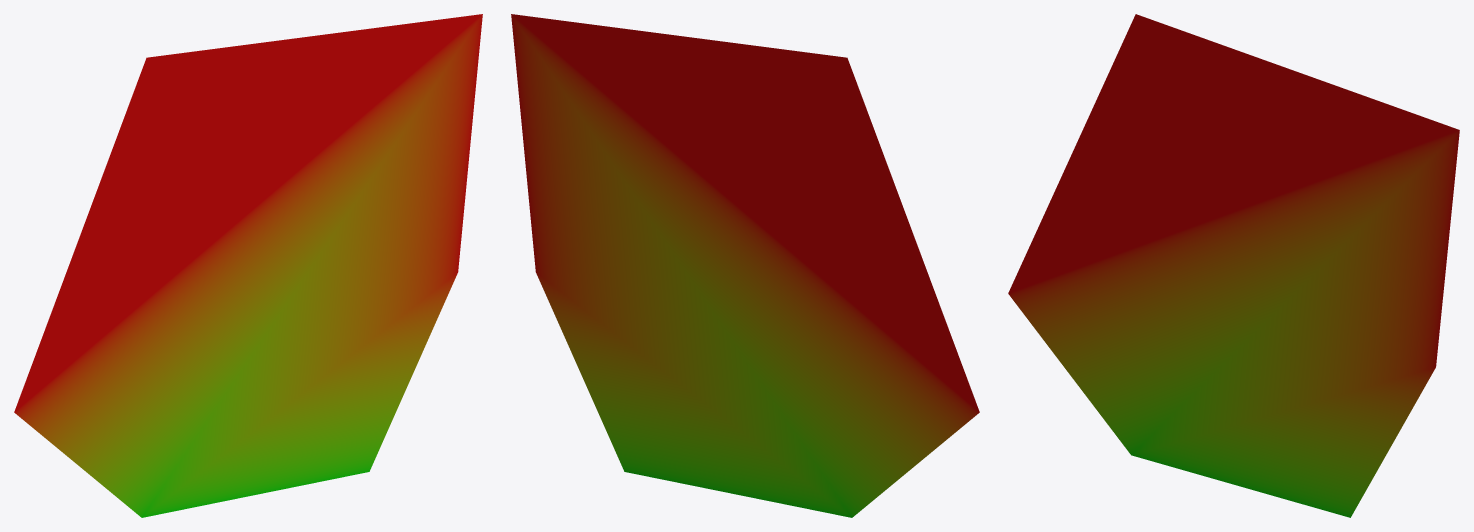
Rendered from Dead Finish_LOD3_Var3_ucokaamia.fbx.
The picture shows the model from 3 angles, left to right: view 1: azimuth 30°, elevation 25°; view 2: azimuth 150°, elevation 25°; view 3: azimuth 330°, elevation 25°; orthographic projection. The views are drawn at different scales.
Visible parts, largest first — view 1: _myy8_Var3_LOD3; view 2: _myy8_Var3_LOD3; view 3: _myy8_Var3_LOD3.
Part boxes in pixels (x1=…): _myy8_Var3_LOD3: x1=14, y1=14, x2=482, y2=517; _myy8_Var3_LOD3: x1=511, y1=14, x2=979, y2=517; _myy8_Var3_LOD3: x1=1008, y1=14, x2=1459, y2=517.
Size of the model in its own units: 40.23 by 38.42 by 9.97e-06.
